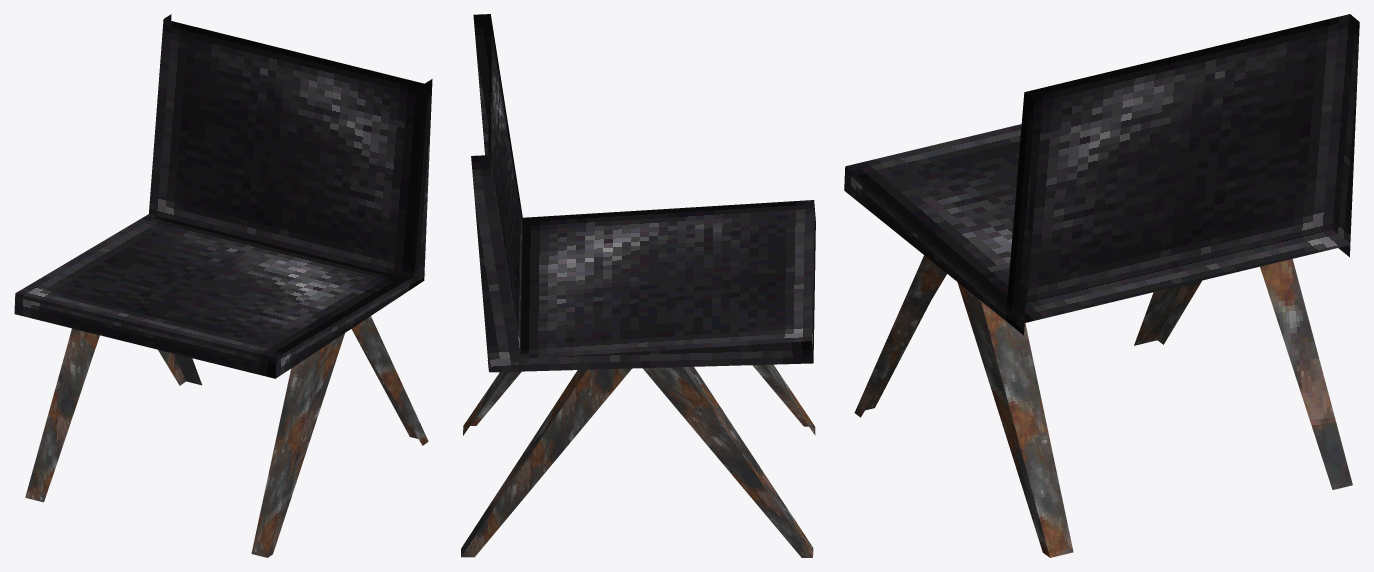
File: primary_268.glb
3 renders of one model, left to right at view 1: azimuth 30°, elevation 25°; view 2: azimuth 150°, elevation 25°; view 3: azimuth 270°, elevation 25°, orthographic. The views are drawn at different scales.
Visible parts, largest first — view 1: Object; view 2: Object; view 3: Object.
Boxes of the visible parts, x1,y1,x2,y2 form: Object: (14,14,432,557); Object: (461,14,815,557); Object: (844,14,1359,557).
Size of the model in its own units: 0.926 by 0.8928 by 0.9128.
Materials: 2 (2 with a texture image).
